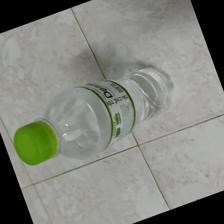Dasani: (13, 65, 176, 164)
